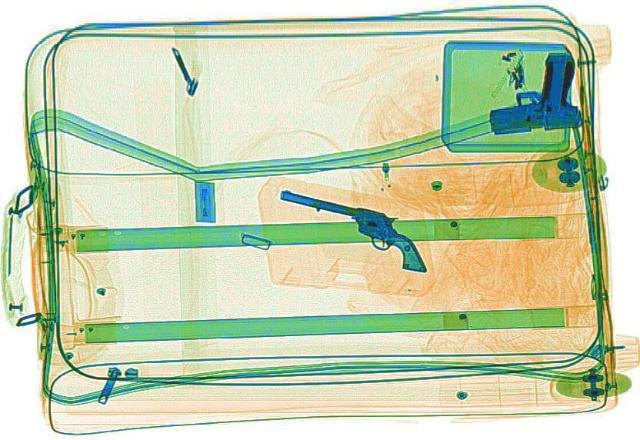Gun: (255, 186, 455, 274), (490, 50, 580, 134)
